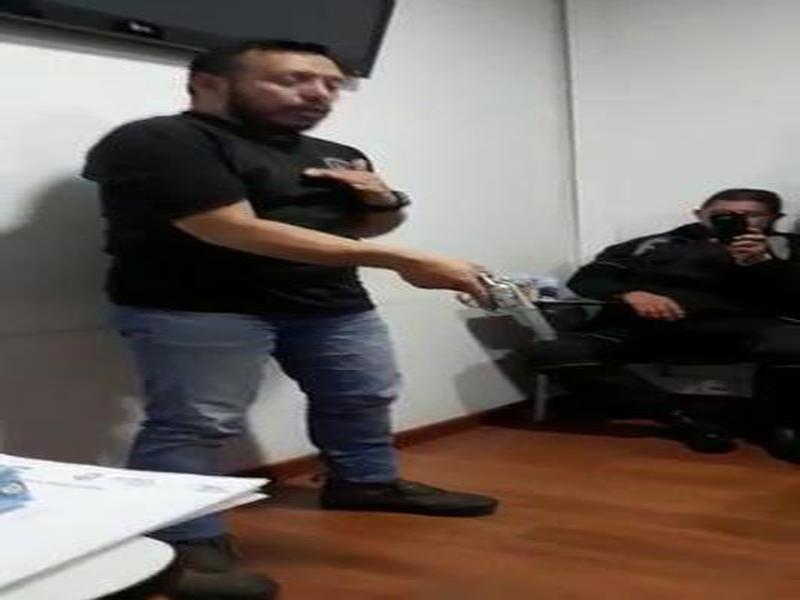Revolver: (459, 254, 563, 371)
